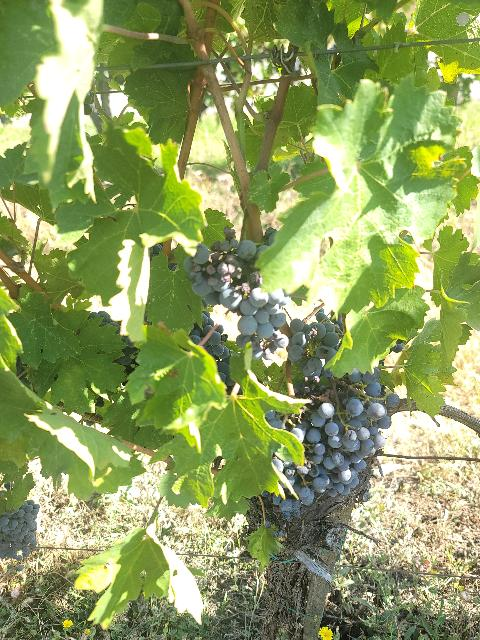grapes: (184, 226, 290, 360), (310, 368, 400, 472), (288, 319, 340, 376)
